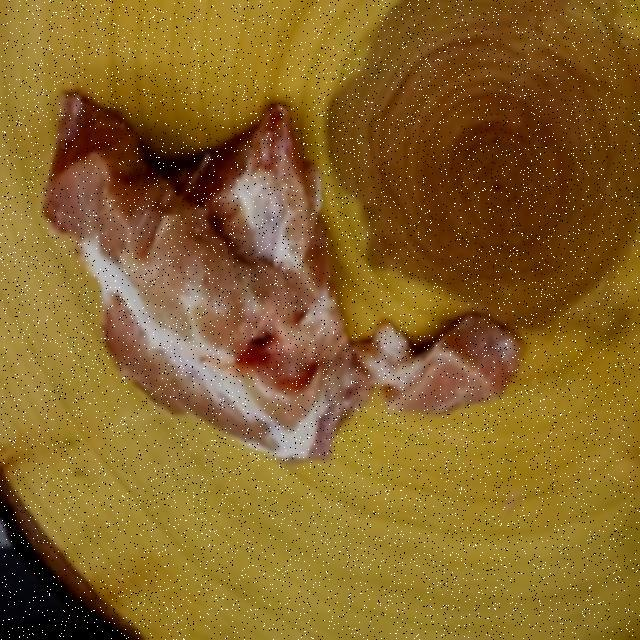pork: (37, 84, 509, 449)
